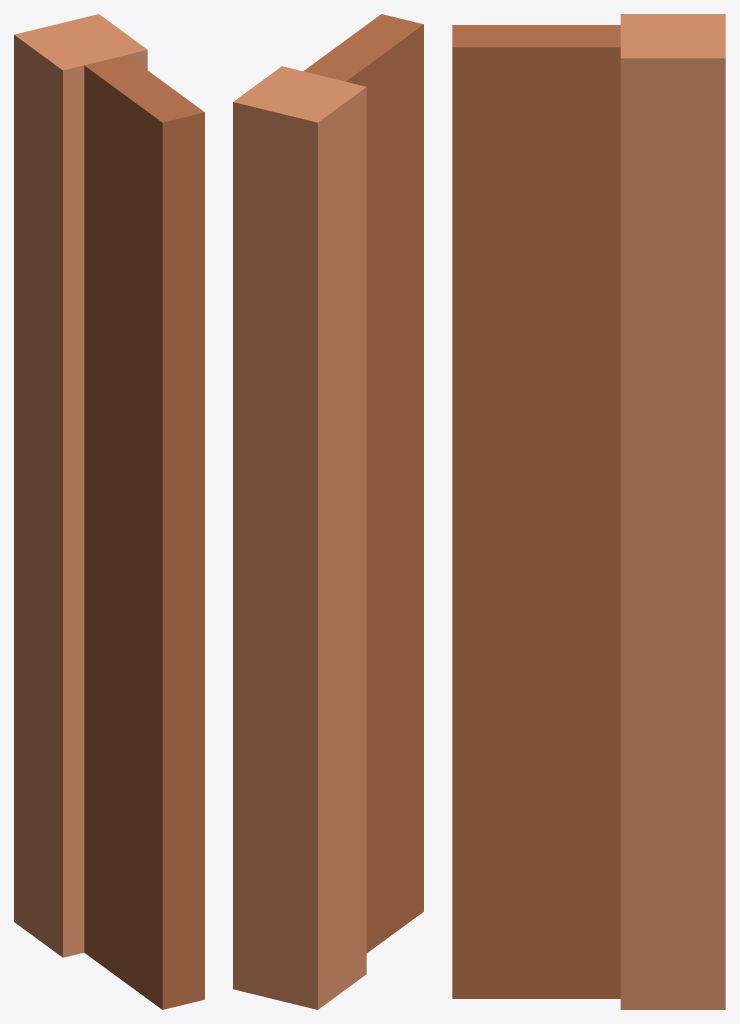
The model's file is wallWoodSide.glb.
The picture shows the model from 3 angles, left to right: view 1: azimuth 30°, elevation 25°; view 2: azimuth 150°, elevation 25°; view 3: azimuth 270°, elevation 25°; orthographic projection. The views are drawn at different scales.
Parts seen in each view (by area): view 1: wallWoodSide; view 2: wallWoodSide; view 3: wallWoodSide.
Boxes of the visible parts, <box> form: wallWoodSide: <box>14,14,204,1009</box>; wallWoodSide: <box>233,14,423,1009</box>; wallWoodSide: <box>452,14,725,1009</box>.
Size of the model in its own units: 0.3 by 3 by 0.78.
